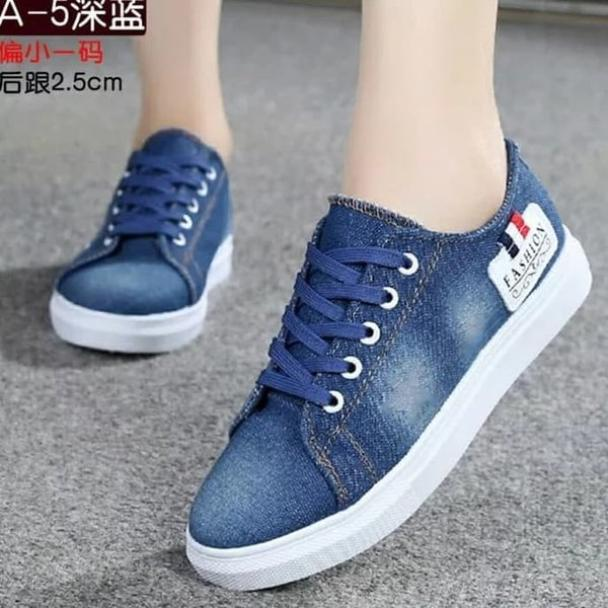Sepatu: (185, 142, 596, 595), (52, 132, 238, 360)
